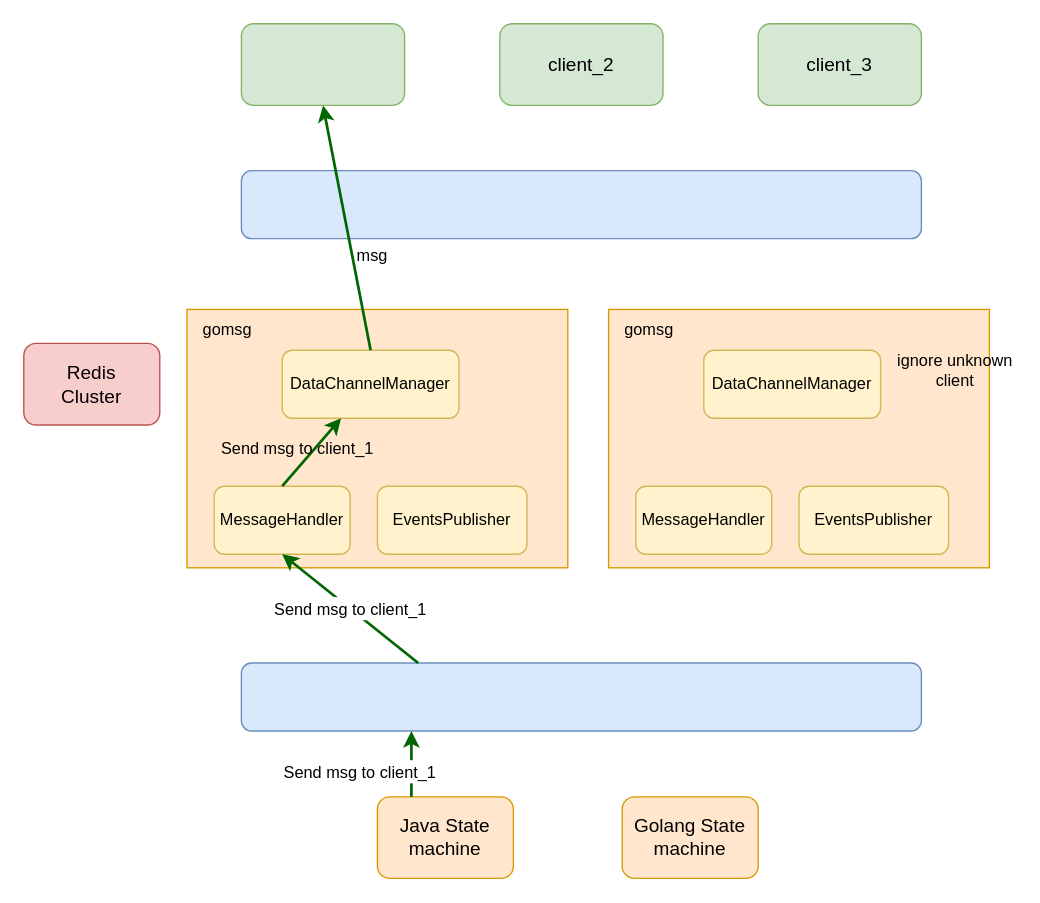
The diagram is 1040 pixels wide and 903 high, and some of its shapes have lost their labels. The box of each missing label's shape, as (x1, y1, x2, y2) in pixels:
client_1: (240, 22, 405, 105)
Kafka: (240, 662, 921, 731)
Load balance: (240, 169, 921, 239)
